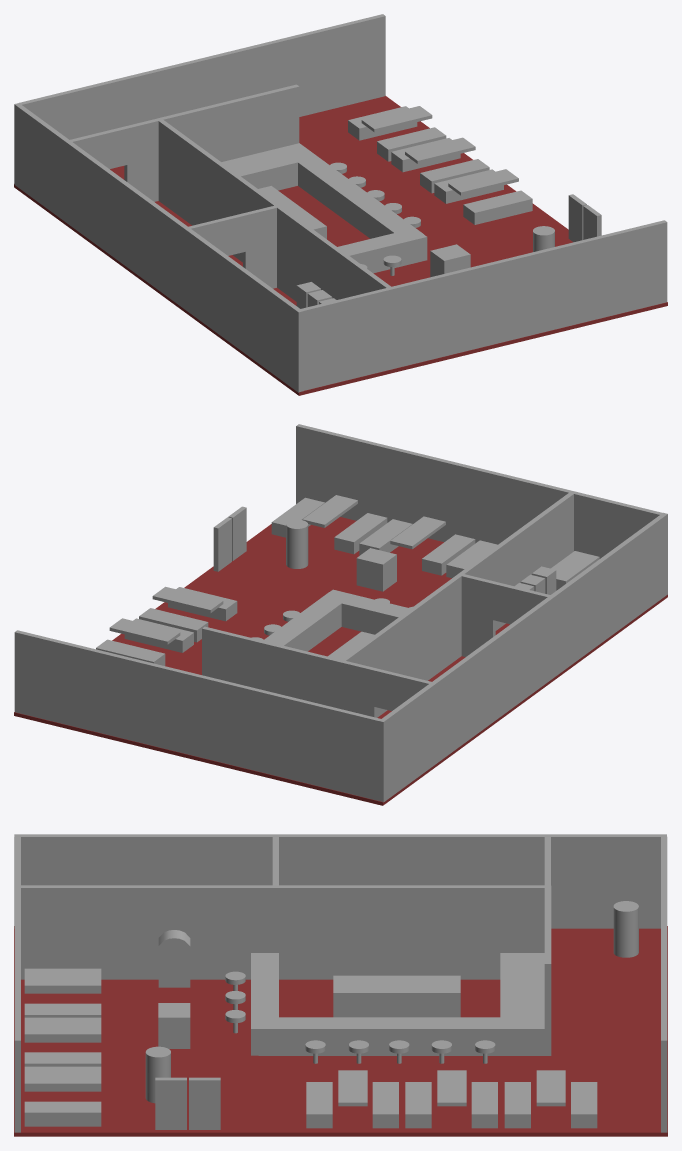
Rendered from dinertest.fbx.
3 renders of one model, top to bottom at view 1: azimuth 30°, elevation 25°; view 2: azimuth 150°, elevation 25°; view 3: azimuth 270°, elevation 25°, orthographic. The views are drawn at different scales.
Visible parts, largest first — view 1: pCube149; view 2: pCube149; view 3: pCube149.
Boxes of the visible parts, x1=… form: pCube149: x1=14, y1=14, x2=667, y2=395; pCube149: x1=14, y1=424, x2=667, y2=805; pCube149: x1=14, y1=834, x2=667, y2=1136.
Bounding box in the file's own units: 69.04 × 14.93 × 92.32.
